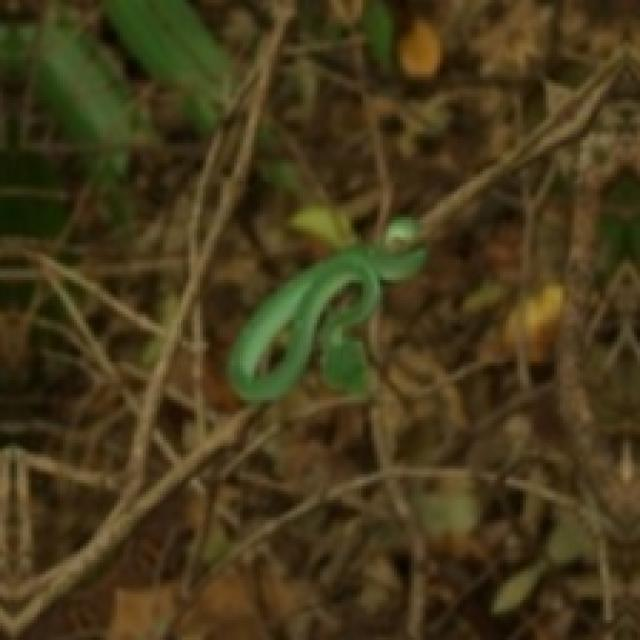north ph temple pitviper: (229, 246, 423, 400)
